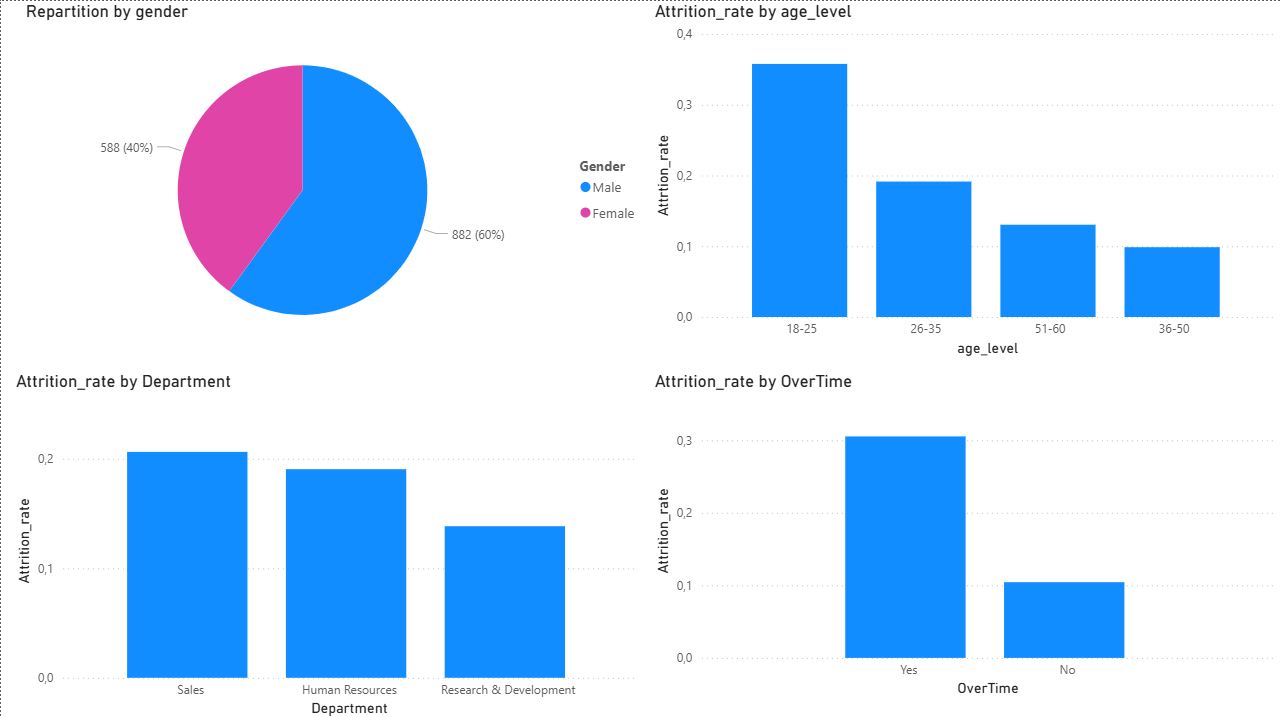

This screenshot's page, from the dashboard's own definition file:
{"tool":"powerbi","page":{"name":"Analyse_base","canvas":[1280,720],"ordinal":1},"visuals":[{"type":"pieChart","title":"Repartition by gender","fields":{"Category":["Rh_analytics.Gender"],"Y":["CountNonNull(Rh_analytics.Gender)"]},"box":[19.9,0,629.4,359.5],"z":0},{"type":"clusteredColumnChart","title":"Attrition_rate by Department","fields":{"Category":["Rh_analytics.Department"],"Y":["Rh_analytics.Taux_Attrition"]},"box":[10,369.5,629.4,350.8],"z":1000},{"type":"clusteredColumnChart","title":"Attrition_rate by age_level","fields":{"Category":["Rh_analytics.age_level"],"Y":["Rh_analytics.Taux_Attrition"]},"box":[649,0,629,360],"z":2000},{"type":"columnChart","title":"Attrition_rate by OverTime","fields":{"Y":["Rh_analytics.Taux_Attrition"],"Category":["Rh_analytics.OverTime"]},"box":[649.3,369.5,629.4,330.9],"z":3000}]}

Visuals, with their boxes in screenshot pixels (x1, y1, x2, y2), scaled from the page's 1280x720 canvas onto the 1280x717 screenshot:
"Repartition by gender" pieChart: pyautogui.locateOnScreen(20, 0, 649, 358)
"Attrition_rate by Department" clusteredColumnChart: pyautogui.locateOnScreen(10, 368, 639, 716)
"Attrition_rate by age_level" clusteredColumnChart: pyautogui.locateOnScreen(649, 0, 1278, 358)
"Attrition_rate by OverTime" columnChart: pyautogui.locateOnScreen(649, 368, 1279, 697)
